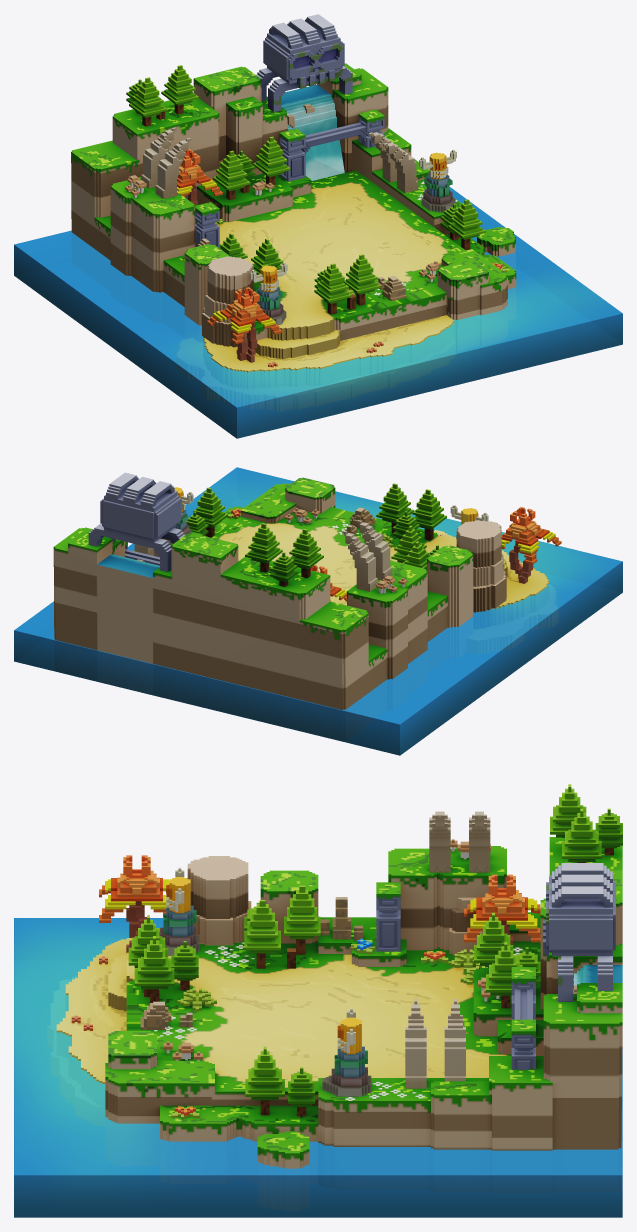
Rendered from BattleMap1.obj.
The picture shows the model from 3 angles, top to bottom: view 1: azimuth 30°, elevation 25°; view 2: azimuth 150°, elevation 25°; view 3: azimuth 270°, elevation 25°; orthographic projection. The views are drawn at different scales.
Parts seen in each view (by area): view 1: flower01; view 2: flower01; view 3: flower01.
Part boxes in pixels (x1,y1,x2,y2): flower01: [14, 14, 622, 438]; flower01: [14, 467, 622, 755]; flower01: [14, 784, 622, 1217].
Bounding box in the file's own units: 200 × 96 × 200.
